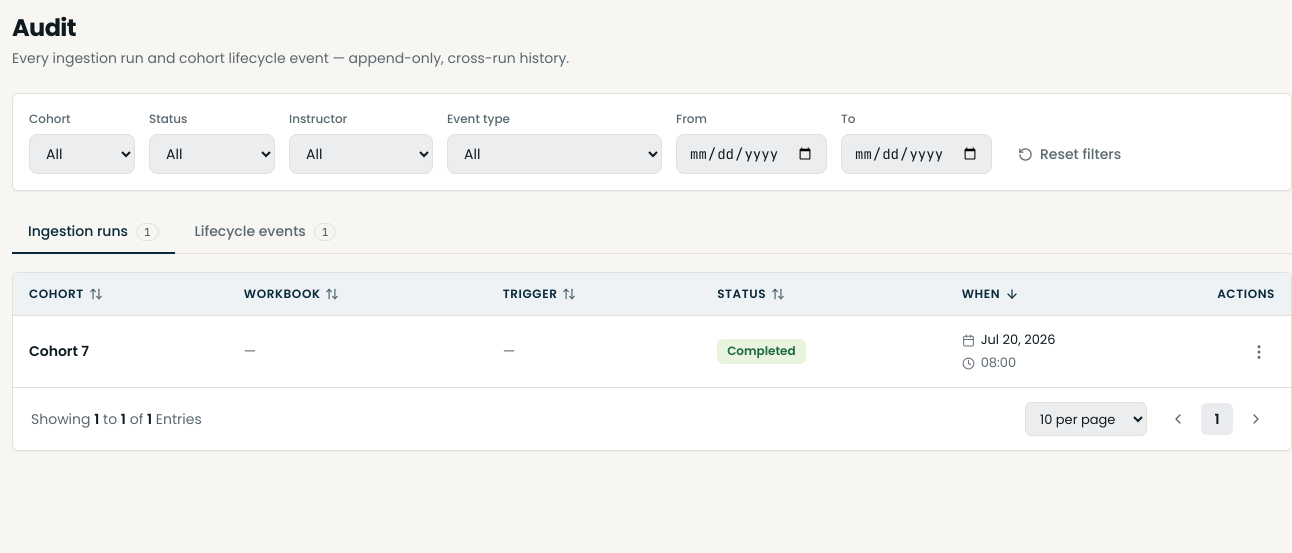
Test: AuditView › flags a high-failure run in the expanded detail row
Click the row with class "row-click".
click(652, 351)  # box [13, 316, 1291, 387]
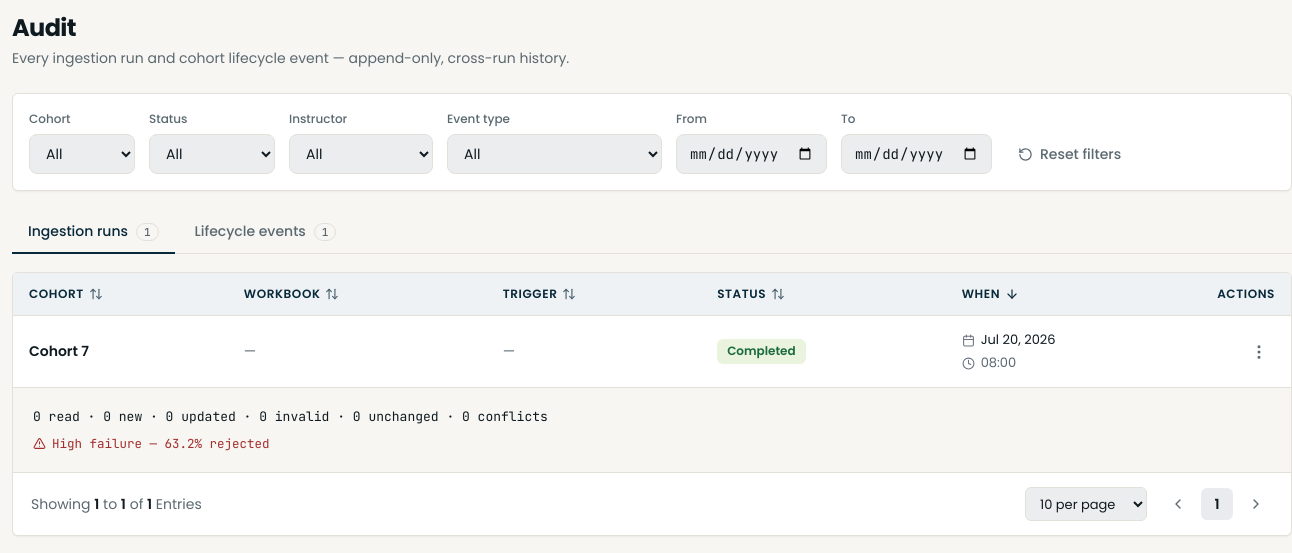
Expected: the text "High failure" is shown, [52, 435, 270, 452]
Expected: the text "63.2%" is shown, [52, 435, 270, 452]
